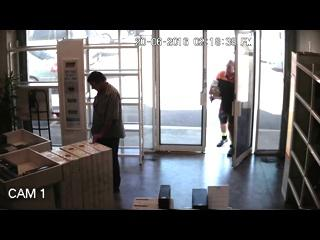Normal: (87, 72, 126, 194), (210, 60, 238, 150)
